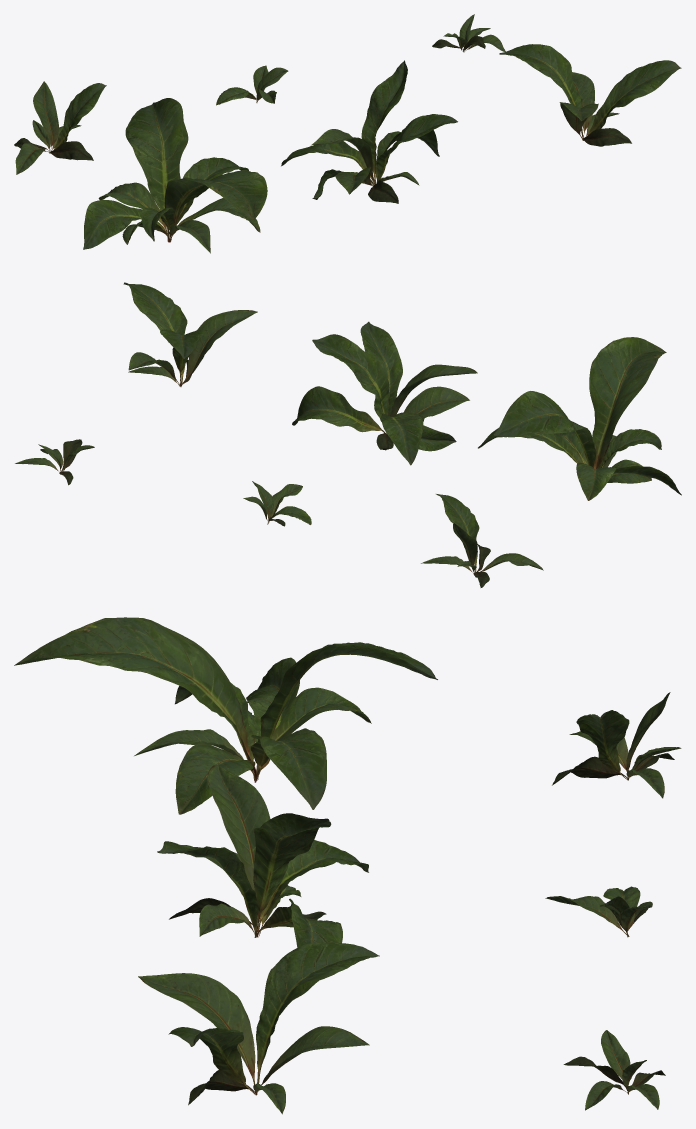
Rendered from anthurium_botany_01.glb.
3 renders of one model, top to bottom at view 1: azimuth 30°, elevation 25°; view 2: azimuth 150°, elevation 25°; view 3: azimuth 270°, elevation 25°, orthographic. The views are drawn at different scales.
Visible parts, largest first — view 1: anthurium_botany_01_a; view 2: anthurium_botany_01_a; view 3: anthurium_botany_01_a.
Part boxes in pixels (left/top/right/bottom): anthurium_botany_01_a: left=14, top=14, right=681, bottom=253; anthurium_botany_01_a: left=15, top=282, right=681, bottom=587; anthurium_botany_01_a: left=14, top=617, right=681, bottom=1114.
Bounding box in the file's own units: 2.8 × 0.4994 × 1.8.
Materials: 1 (1 with a texture image).
